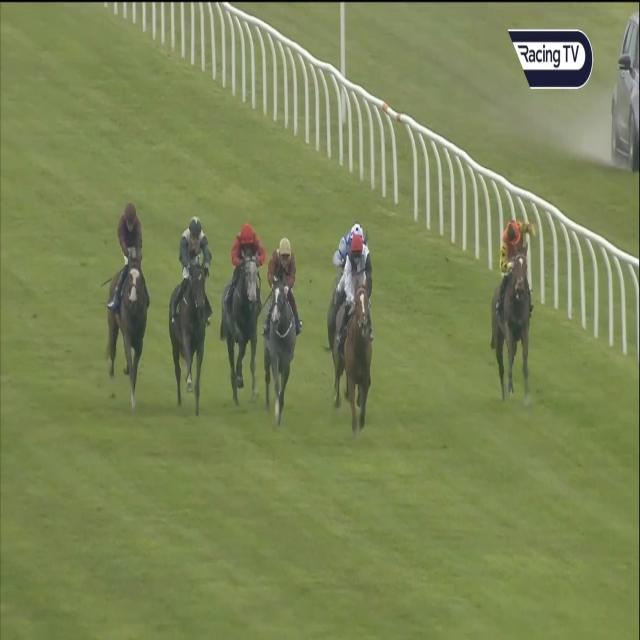horses-racing: (97, 202, 149, 409), (165, 216, 214, 407), (338, 228, 384, 431), (258, 235, 305, 428), (490, 214, 537, 398), (218, 216, 263, 396), (324, 211, 368, 324)
